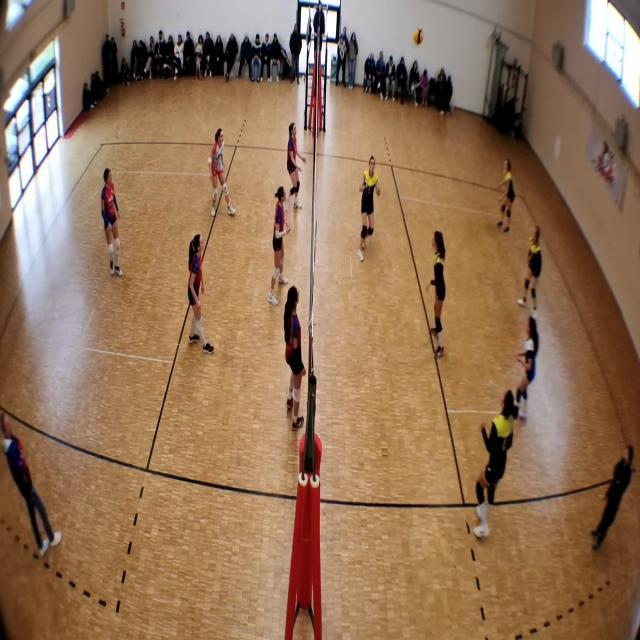volleyball: (412, 26, 424, 46)
